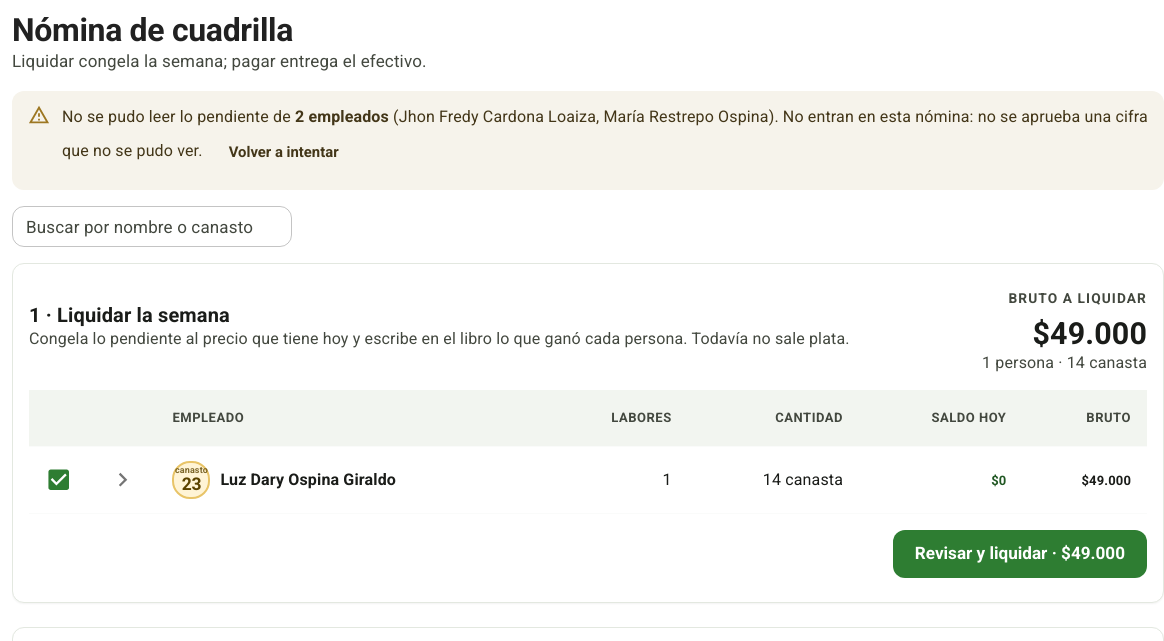
it: when the re-read fails › names every account it could not read, and can try again
The image size is (1164, 641).
Expected: the text "No entran en esta" shows "2 empleados", [12,91,1163,190]
Step 1. Click the button "Volver a intentar" → (284, 152), box [207,128,361,176]
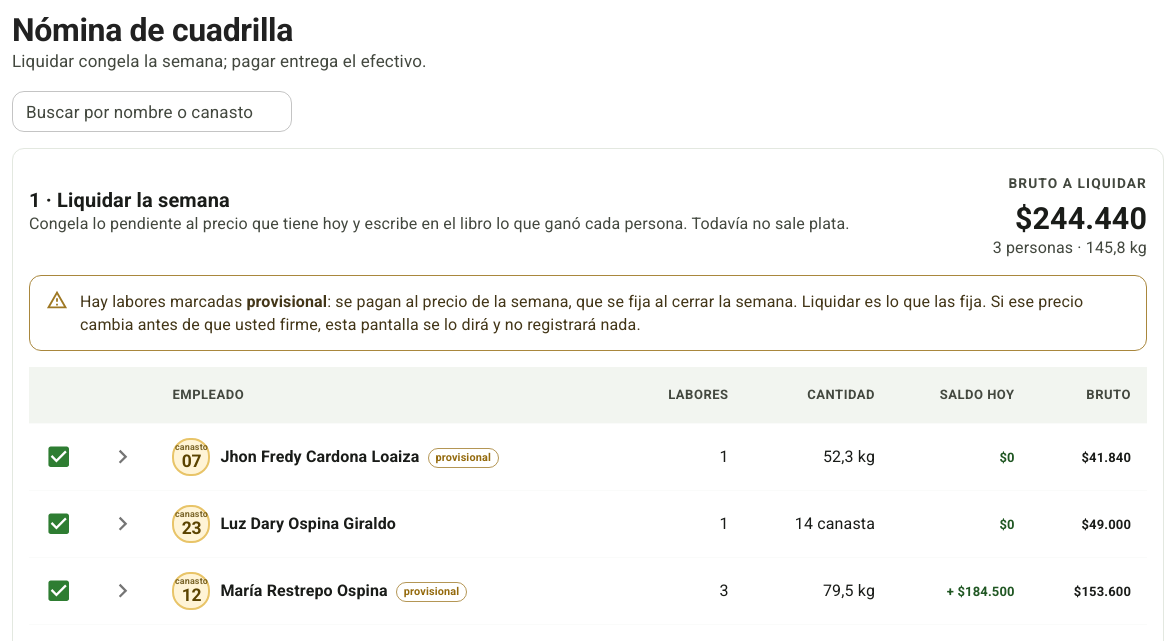
Expected: the text "No entran en esta" is gone
